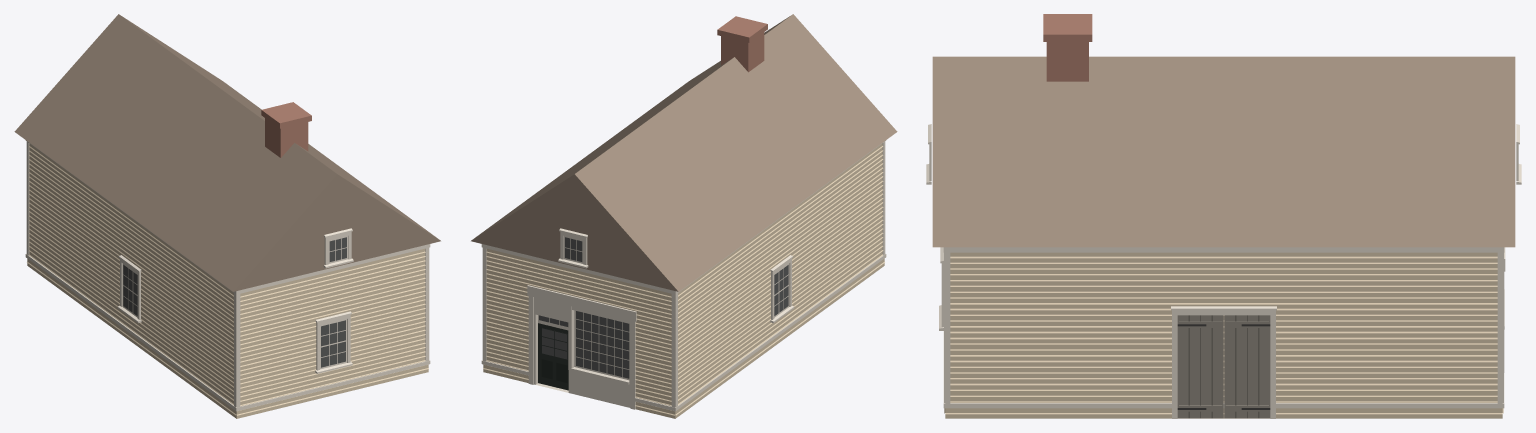
File: recon_1835_blk_south_water_franklin_c2_10__inferred_1835.glb
3 views of the same model, side by side, from view 1: azimuth 30°, elevation 25°; view 2: azimuth 150°, elevation 25°; view 3: azimuth 270°, elevation 25° (orthographic). The views are drawn at different scales.
Visible parts, largest first — view 1: recon_1835_blk_south_water_franklin_c2_10__inferred_1835; view 2: recon_1835_blk_south_water_franklin_c2_10__inferred_1835; view 3: recon_1835_blk_south_water_franklin_c2_10__inferred_1835.
Boxes of the visible parts, x1=… form: recon_1835_blk_south_water_franklin_c2_10__inferred_1835: x1=14, y1=14, x2=440, y2=418; recon_1835_blk_south_water_franklin_c2_10__inferred_1835: x1=471, y1=14, x2=897, y2=418; recon_1835_blk_south_water_franklin_c2_10__inferred_1835: x1=926, y1=14, x2=1521, y2=418.
Bounding box in the file's own units: 6.38 × 7.29 × 11.86.
